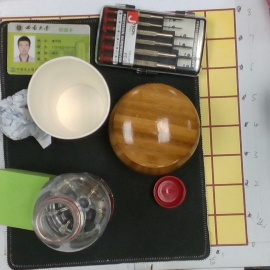bottle: (33, 169, 118, 250)
card: (5, 21, 92, 74)
chess: (111, 82, 201, 177)
cup: (28, 59, 112, 142)
